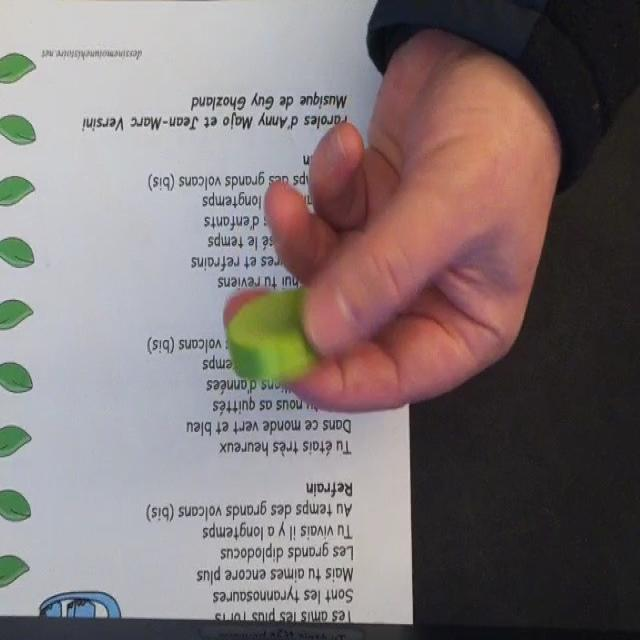round: (227, 285, 333, 380)
